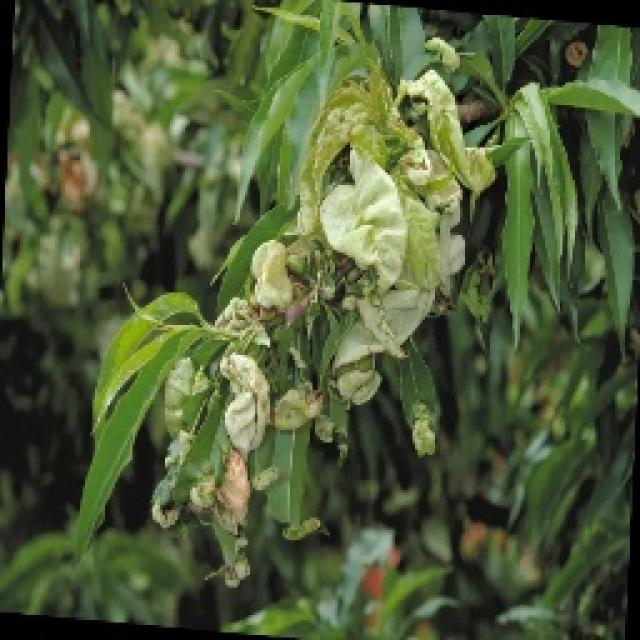peach_leaf_curl: (75, 42, 500, 588)
